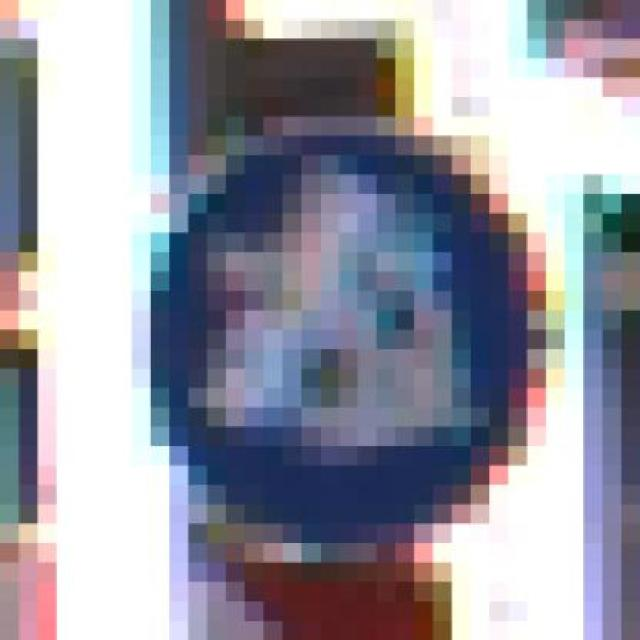Keep-Right: (113, 116, 584, 562)
